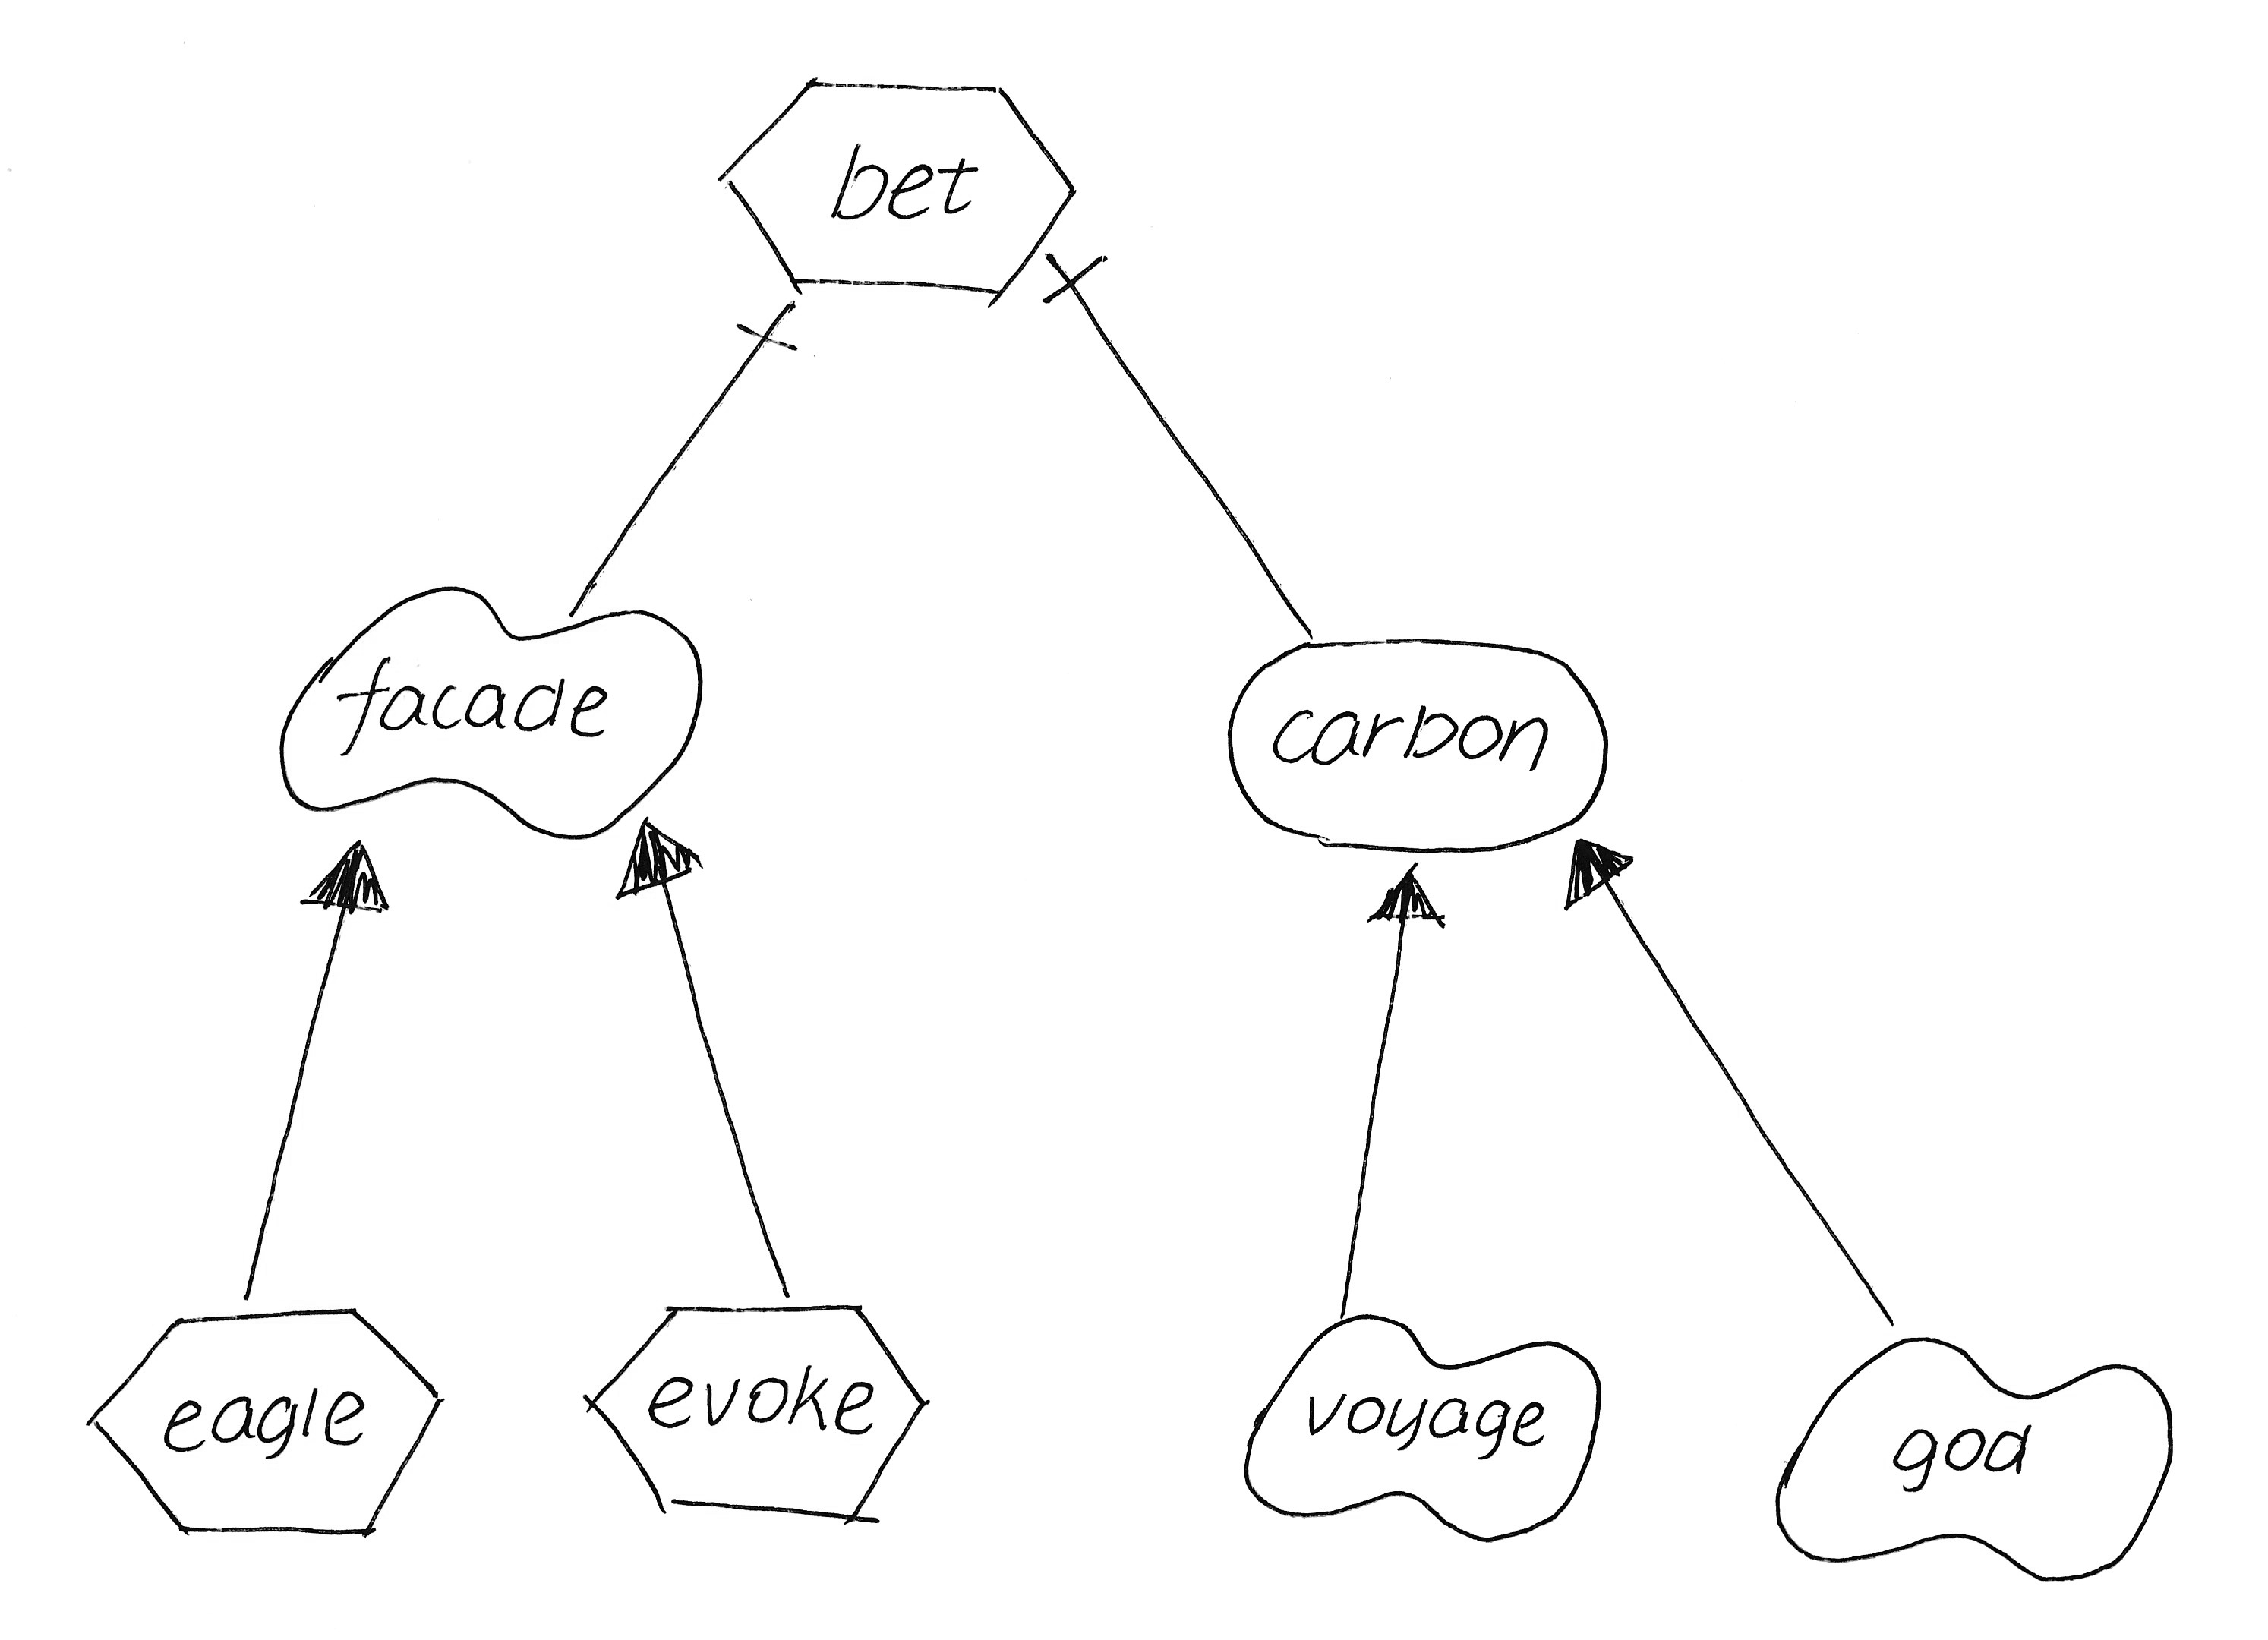and: (722, 284, 812, 380), (1034, 231, 1115, 328)
goal: (1210, 609, 1632, 886)
or: (600, 805, 711, 916), (289, 826, 394, 930), (1352, 851, 1454, 946), (1546, 824, 1648, 920)
quality: (261, 560, 724, 847), (1752, 1319, 2201, 1596), (1219, 1293, 1622, 1554)
task: (562, 1284, 954, 1548), (69, 1293, 463, 1554), (704, 58, 1093, 319)
